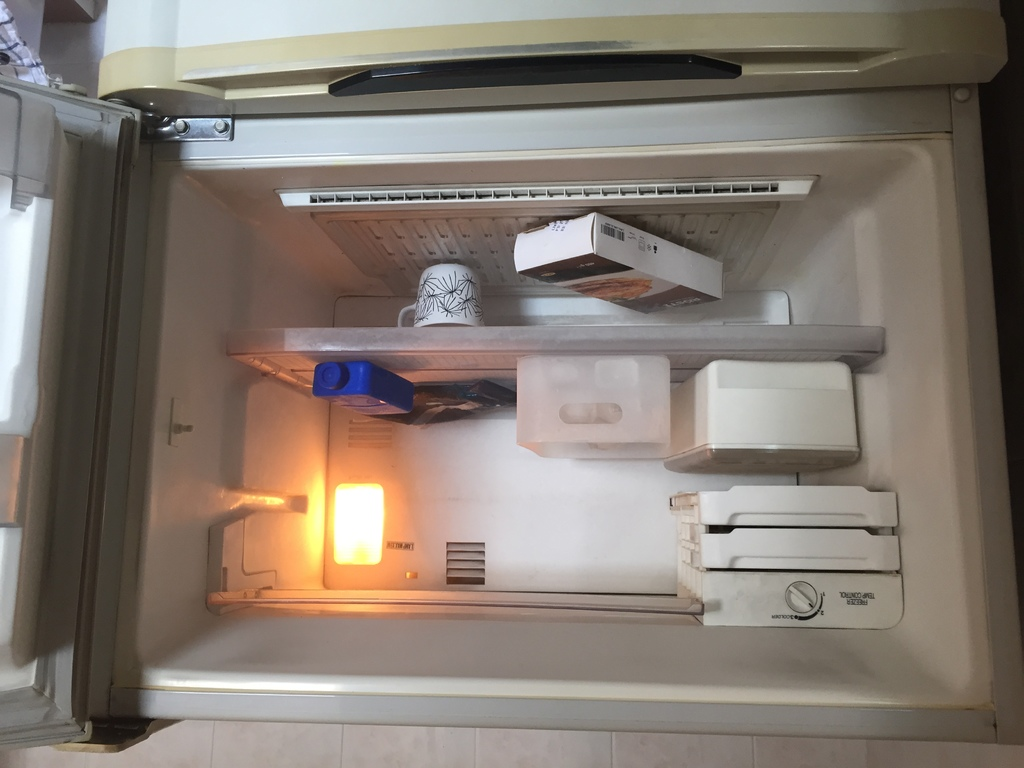refrigerator door: (4, 124, 114, 644)
